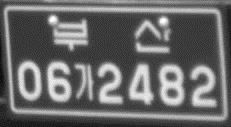0: (16, 58, 41, 102)
2: (188, 63, 218, 110), (95, 61, 125, 106)
4: (125, 60, 155, 107)
6: (44, 60, 71, 103)
8: (157, 62, 186, 107)
가: (73, 61, 96, 101)
부산_D: (50, 16, 172, 55)
